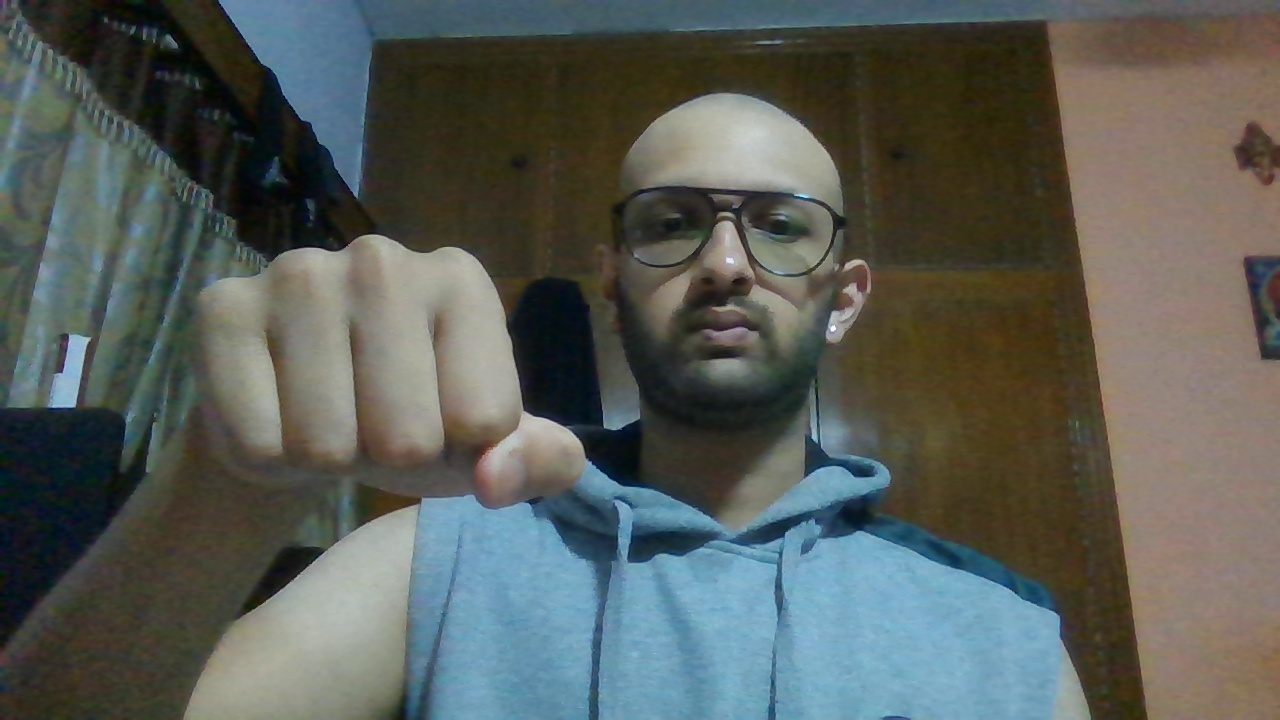Yes: (185, 224, 593, 514)
